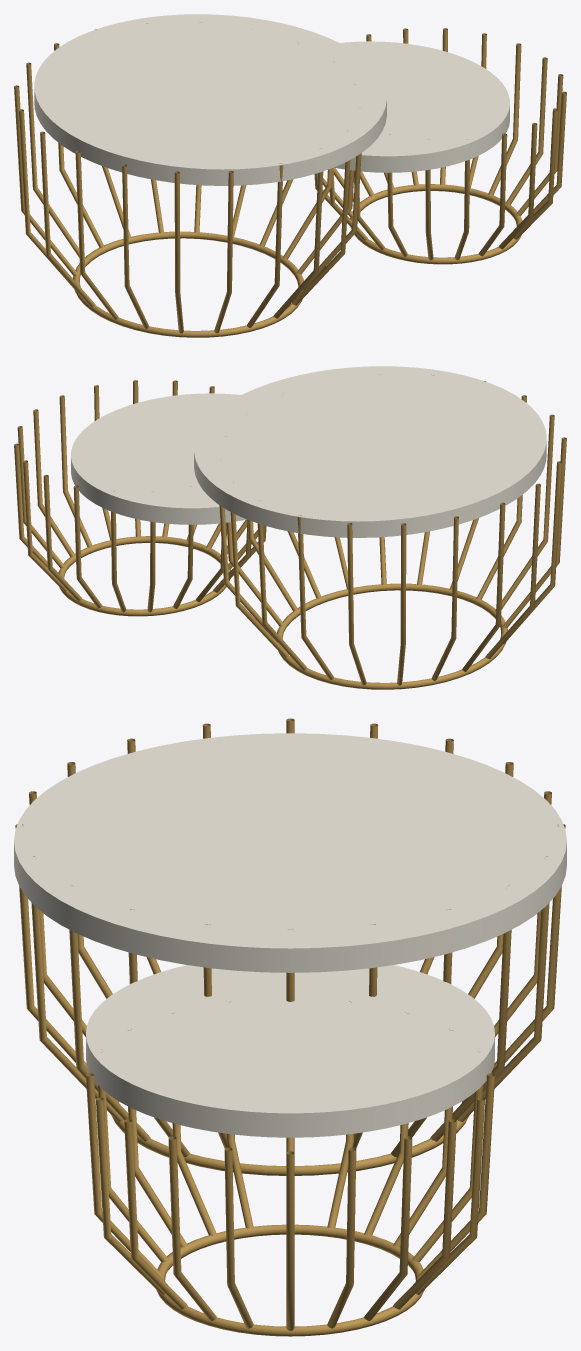
File: wh-white-x-gold-coffee-table-set.glb
3 renders of one model, top to bottom at view 1: azimuth 30°, elevation 25°; view 2: azimuth 150°, elevation 25°; view 3: azimuth 270°, elevation 25°, orthographic. The views are drawn at different scales.
Parts seen in each view (by area): view 1: Round nesting white top.002, Gold nesting basket bottom.002; view 2: Round nesting white top.002, Gold nesting basket bottom.002; view 3: Round nesting white top.002, Gold nesting basket bottom.002.
Part boxes in pixels (<box>): Round nesting white top.002: <box>34,14,509,185</box>; Gold nesting basket bottom.002: <box>14,23,566,337</box>; Round nesting white top.002: <box>71,366,546,537</box>; Gold nesting basket bottom.002: <box>14,375,566,689</box>; Round nesting white top.002: <box>14,733,566,1137</box>; Gold nesting basket bottom.002: <box>15,718,565,1336</box>.
Bounding box in the file's own units: 1.25 × 0.45 × 0.8.
